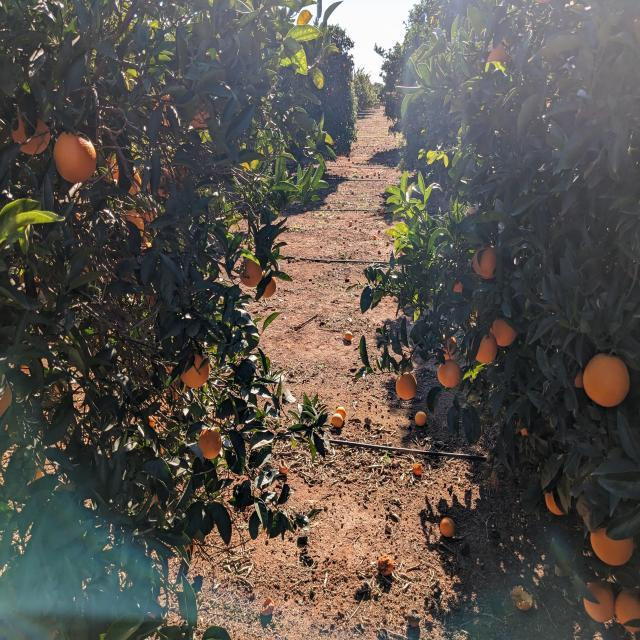Jeruk Sudah Matang: (582, 354, 632, 407), (54, 132, 99, 182), (582, 576, 620, 618), (592, 531, 636, 565), (181, 350, 209, 387), (18, 124, 48, 156), (616, 591, 640, 624), (473, 248, 496, 280), (438, 362, 462, 390), (201, 434, 224, 462), (240, 258, 262, 286), (122, 208, 144, 236), (155, 94, 174, 125), (396, 372, 417, 398), (477, 338, 496, 366), (494, 322, 516, 346), (188, 108, 212, 129), (545, 490, 561, 514), (260, 274, 276, 298), (129, 172, 142, 199), (441, 334, 456, 356), (488, 47, 506, 65), (0, 388, 13, 412), (33, 466, 45, 481), (415, 412, 428, 424), (186, 540, 196, 552), (454, 282, 464, 292), (146, 417, 156, 425), (21, 365, 31, 373), (160, 448, 164, 454)
